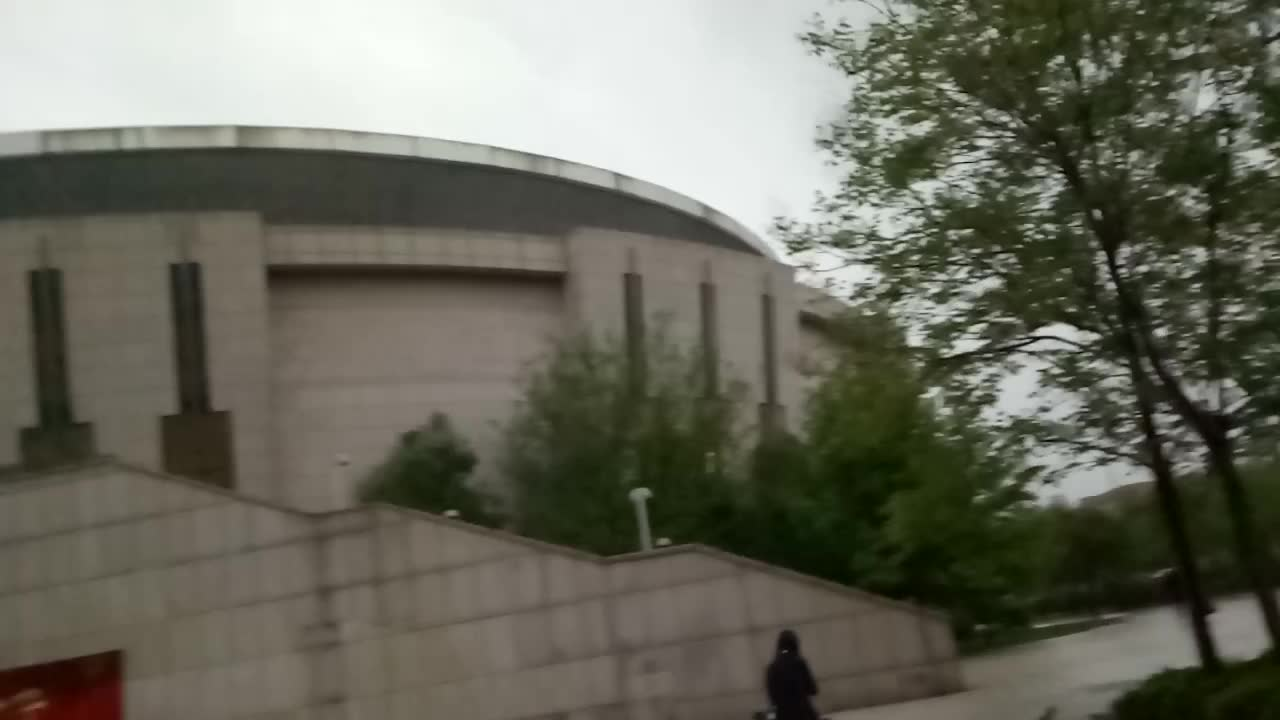zhongtiww: (5, 116, 978, 716)
